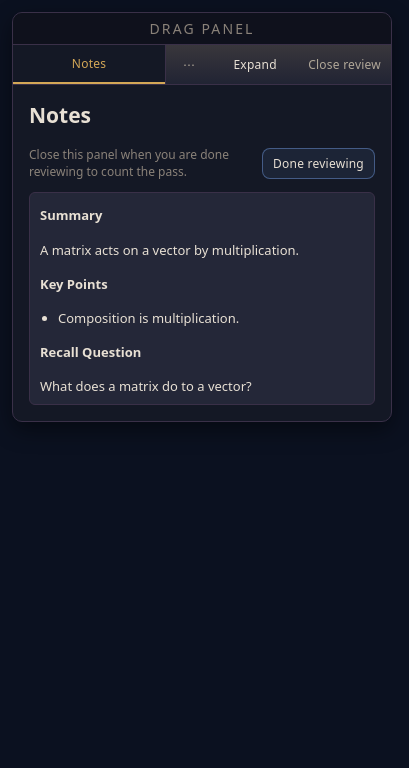
Test: the rollback build › still renders the old pass counters in the topic tab, where they have always lived
This screenshot has width=409, height=768.
Click the button named "room tools" at (189, 64), box [166, 45, 212, 84]
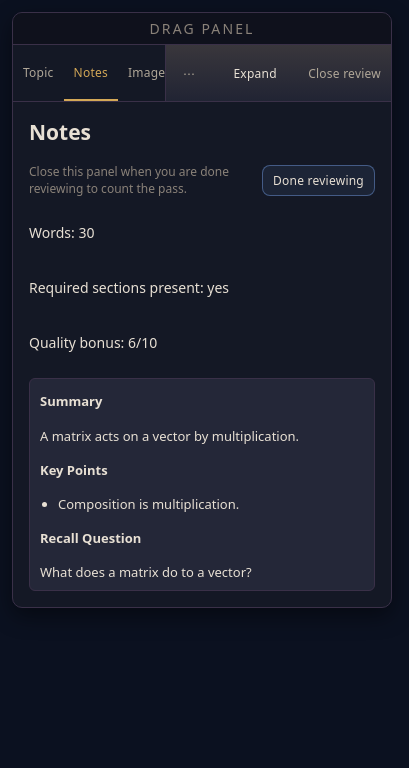
Click the tab "Topic" at (38, 73), box [13, 45, 64, 101]
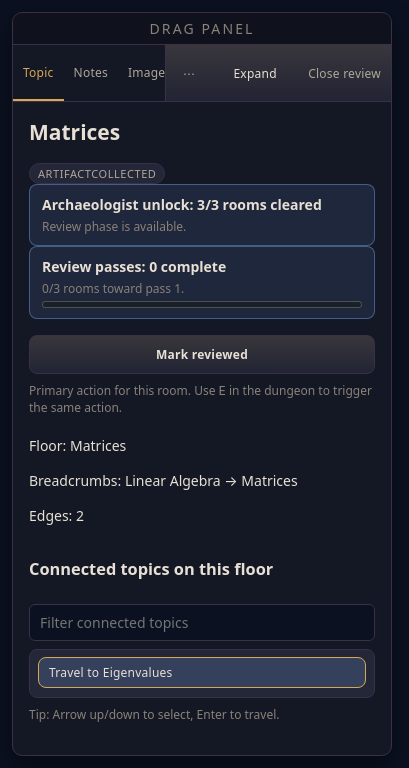
Expected: the text "Archaeologist unlock: 3/3 rooms cleared" is shown, [42, 195, 362, 214]
Expected: the text "Review passes: 0 complete" is shown, [42, 257, 226, 276]
Expected: the text "0/3 rooms toward pass 1." is shown, [42, 280, 184, 297]
